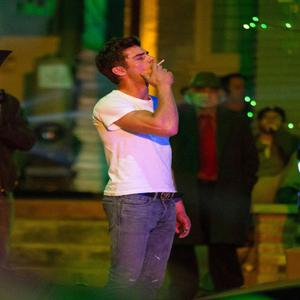cigarette: (152, 58, 168, 71)
